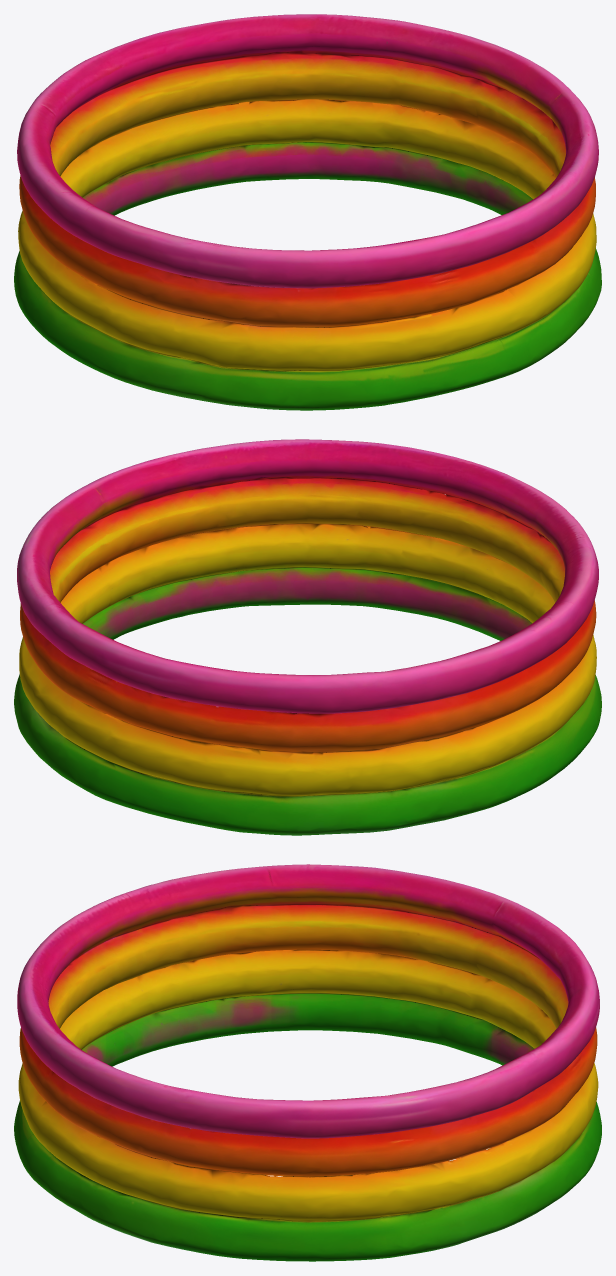
Rendered from BAZIN GONFLABIL COPII 168Х46СМ «CURCUBEU».glb.
3 views of the same model, one above another, from view 1: azimuth 30°, elevation 25°; view 2: azimuth 150°, elevation 25°; view 3: azimuth 270°, elevation 25° (orthographic).
Visible parts, largest first — view 1: tripo_node_e0c6cebd-7944-4666-aee8-6747585813ee; view 2: tripo_node_e0c6cebd-7944-4666-aee8-6747585813ee; view 3: tripo_node_e0c6cebd-7944-4666-aee8-6747585813ee.
Boxes of the visible parts, x1,y1,x2,y2 form: tripo_node_e0c6cebd-7944-4666-aee8-6747585813ee: (14, 14, 601, 410); tripo_node_e0c6cebd-7944-4666-aee8-6747585813ee: (14, 439, 601, 835); tripo_node_e0c6cebd-7944-4666-aee8-6747585813ee: (14, 864, 601, 1261).
Size of the model in its own units: 1 by 0.3028 by 0.9997.
Materials: 1 (1 with a texture image).
